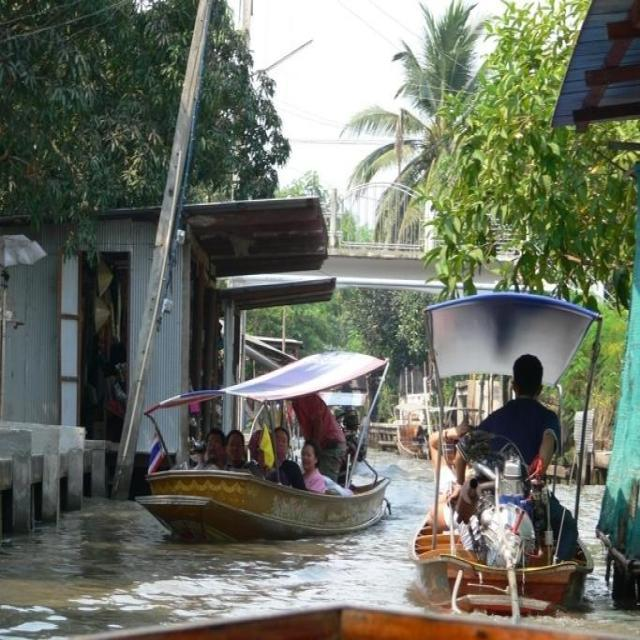boat: (408, 284, 598, 611), (138, 356, 392, 530)
